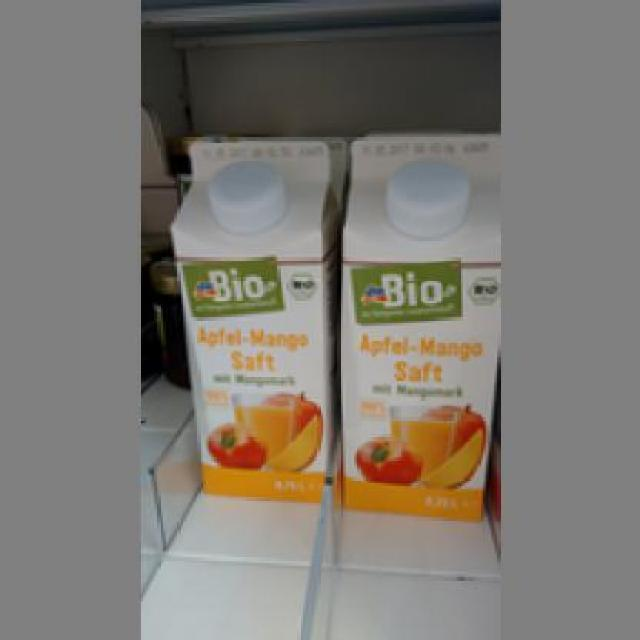Juice: (334, 132, 497, 514), (169, 137, 334, 503)
